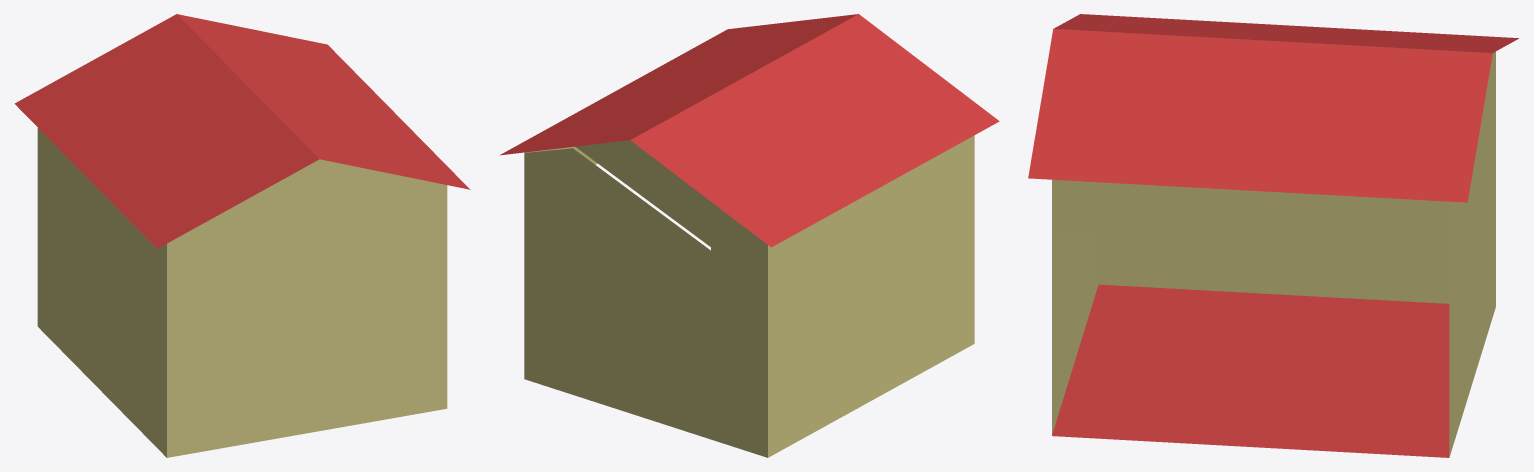
3 views of the same model, side by side, from view 1: azimuth 30°, elevation 25°; view 2: azimuth 150°, elevation 25°; view 3: azimuth 270°, elevation 25° (orthographic). The views are drawn at different scales.
Bounding box in the file's own units: 10.81 × 11.61 × 8.68.
